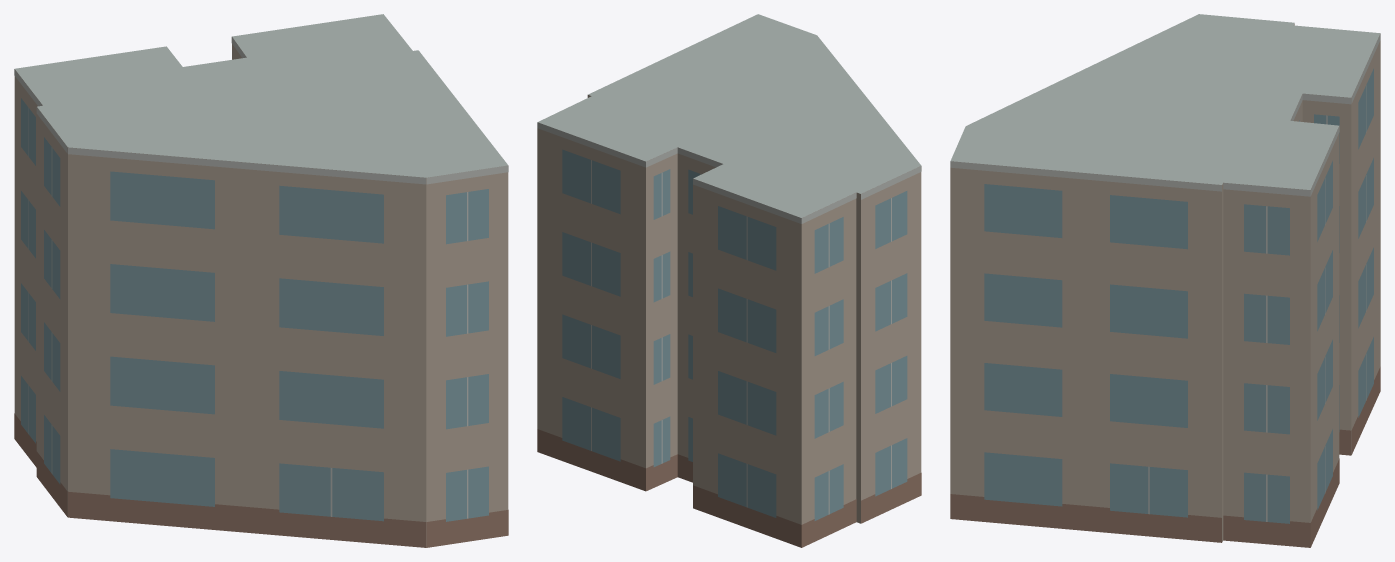
Rendered from survey-upis-32652406.glb.
The picture shows the model from 3 angles, left to right: view 1: azimuth 30°, elevation 25°; view 2: azimuth 150°, elevation 25°; view 3: azimuth 270°, elevation 25°; orthographic projection. The views are drawn at different scales.
Visible parts, largest first — view 1: survey-upis-32652406.tmp; view 2: survey-upis-32652406.tmp; view 3: survey-upis-32652406.tmp.
Part boxes in pixels (x1,y1,x2,y2): survey-upis-32652406.tmp: (14, 14, 508, 547); survey-upis-32652406.tmp: (537, 14, 921, 547); survey-upis-32652406.tmp: (950, 14, 1380, 547).
Bounding box in the file's own units: 14.05 × 13.3 × 14.5.
